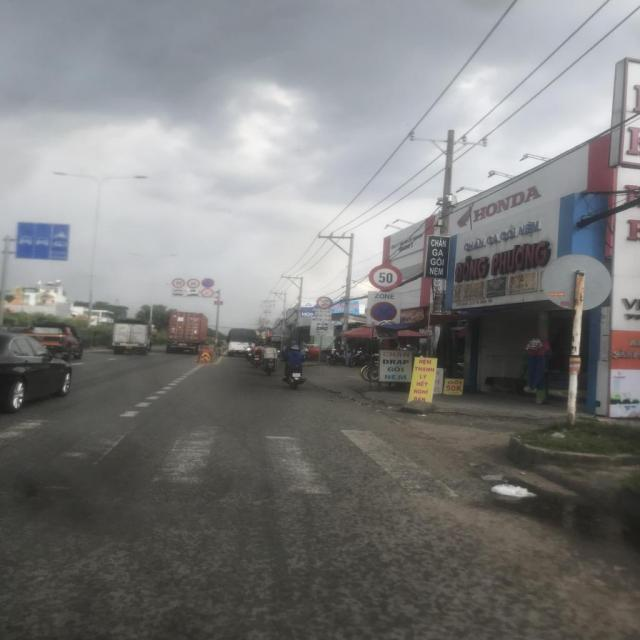cam_dung_xe_va_do_xe: (370, 302, 397, 321), (201, 278, 214, 288)
cam_o_to_tai_va_xe_khach: (316, 296, 334, 310)
cam_xe_2_banh_va_xe_3_banh_co_dong_co: (200, 288, 213, 298)
khac: (310, 322, 334, 336), (314, 310, 332, 322), (188, 293, 198, 298), (172, 293, 183, 297), (187, 289, 198, 293), (172, 289, 184, 292)
lan_duong_cho_tung_xe_theo_vach_ke_duong: (17, 223, 69, 261)
toc_do_toi_da_50: (368, 265, 403, 290)
toc_do_toi_da_60: (187, 279, 200, 289)
toc_do_toi_da_80: (172, 279, 185, 288)
